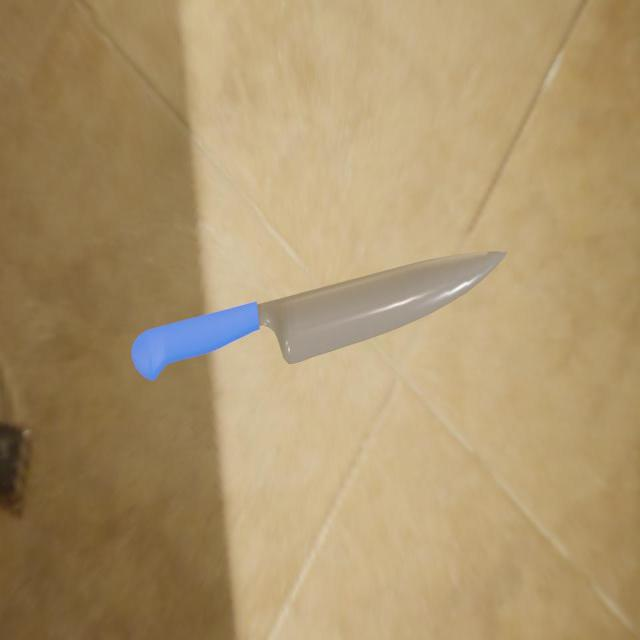knife: (131, 301, 263, 381)
